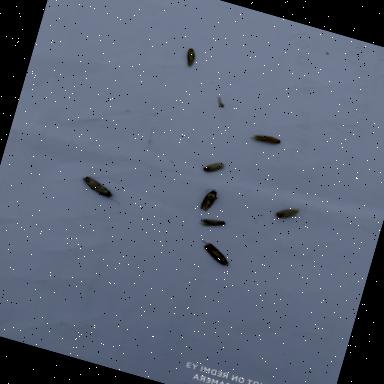pbw: (76, 172, 128, 209), (192, 237, 236, 269), (196, 185, 222, 216), (247, 129, 283, 149), (272, 202, 302, 225), (201, 156, 230, 178), (198, 214, 228, 233), (181, 45, 201, 69)
